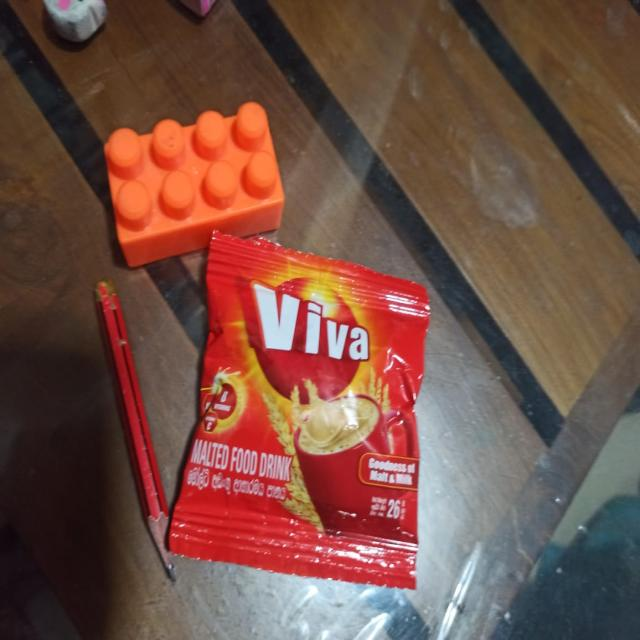Viva Malt: (174, 203, 444, 608)
